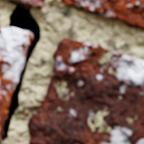brick: (28, 37, 143, 143), (0, 26, 32, 132), (61, 0, 143, 28), (10, 0, 44, 8)
crack: (0, 2, 40, 143)
